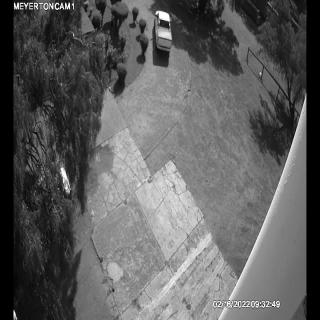car: (22, 167, 71, 213), (152, 10, 172, 50)
